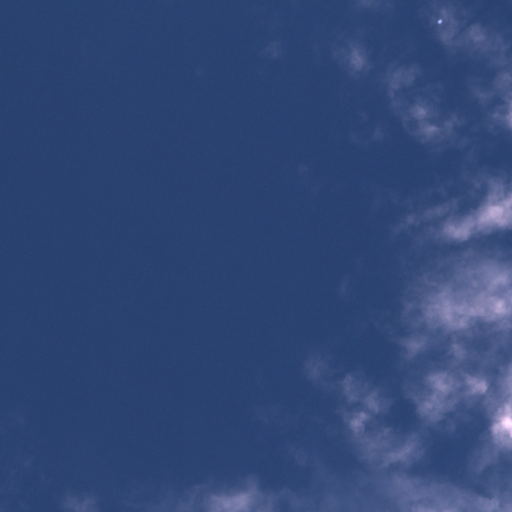Iceberg: (437, 19, 441, 23)
